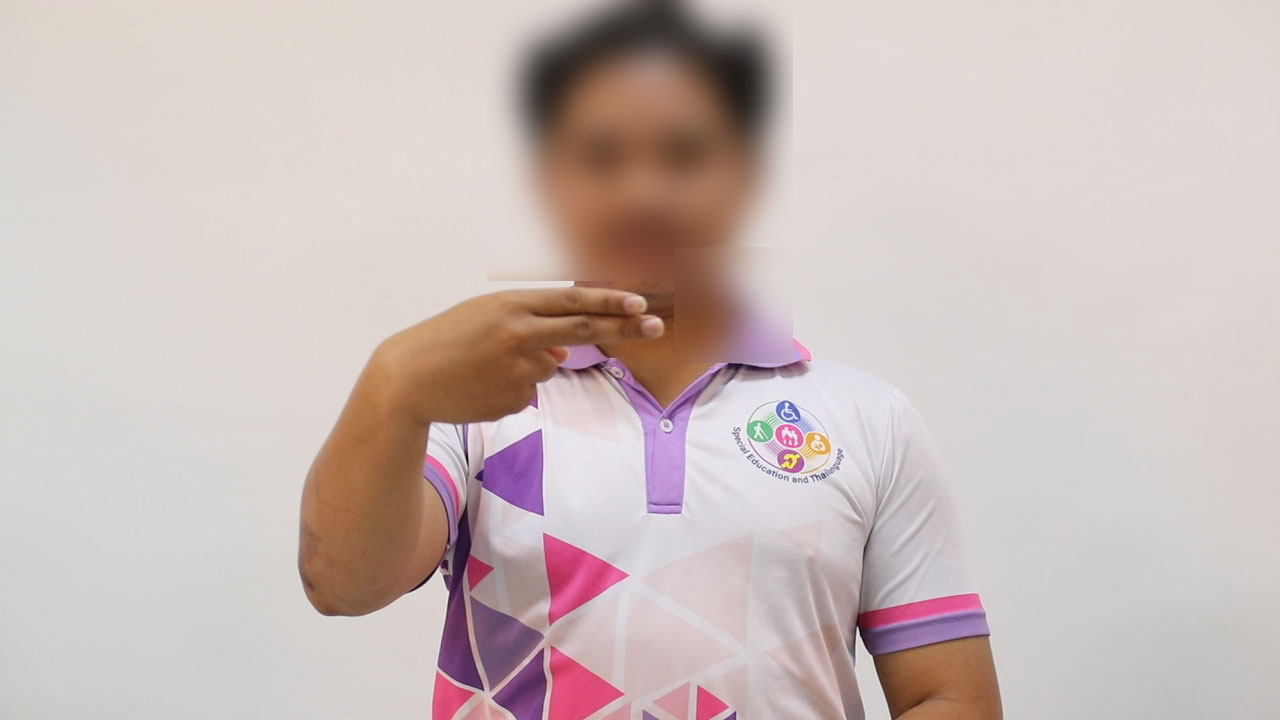hor: (348, 275, 679, 436)
